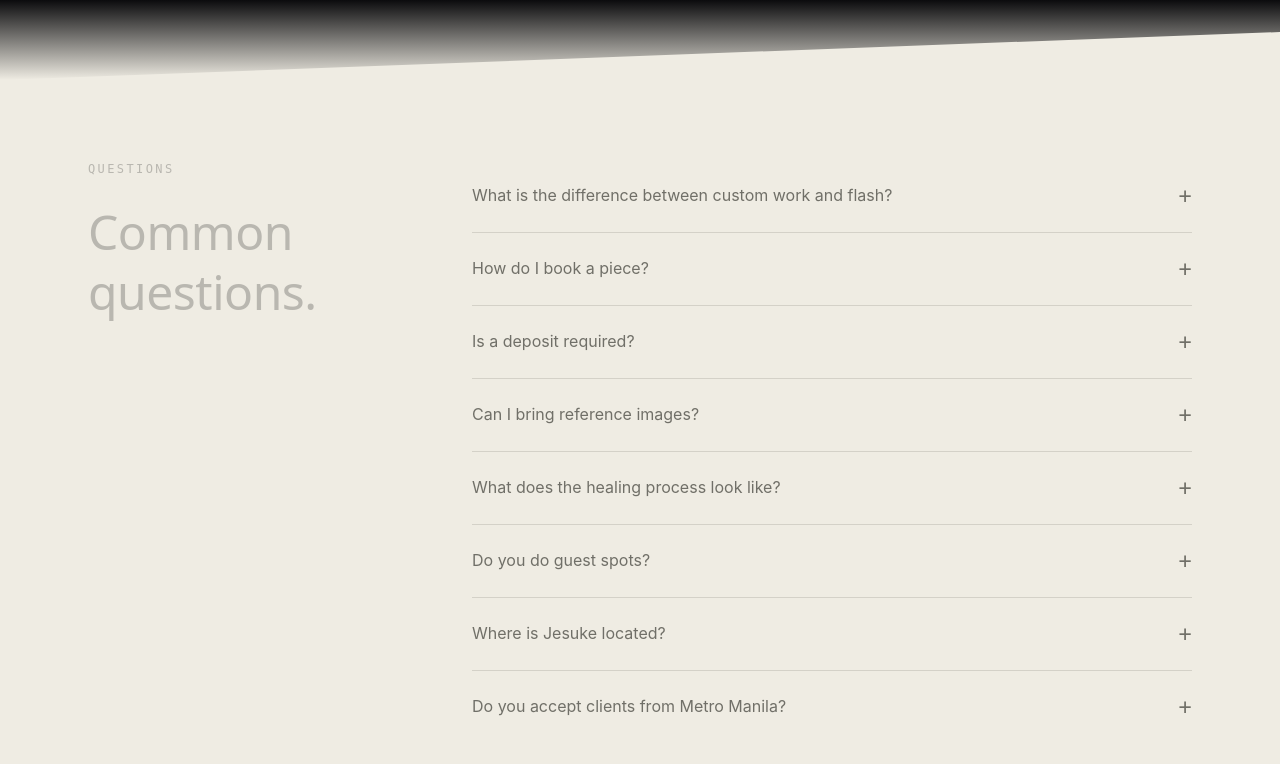
Test case: Faq › collapses FAQ item when clicked again
Click the button "What is the difference between custom work and flash? +".
click(832, 196)  # box [472, 160, 1192, 232]
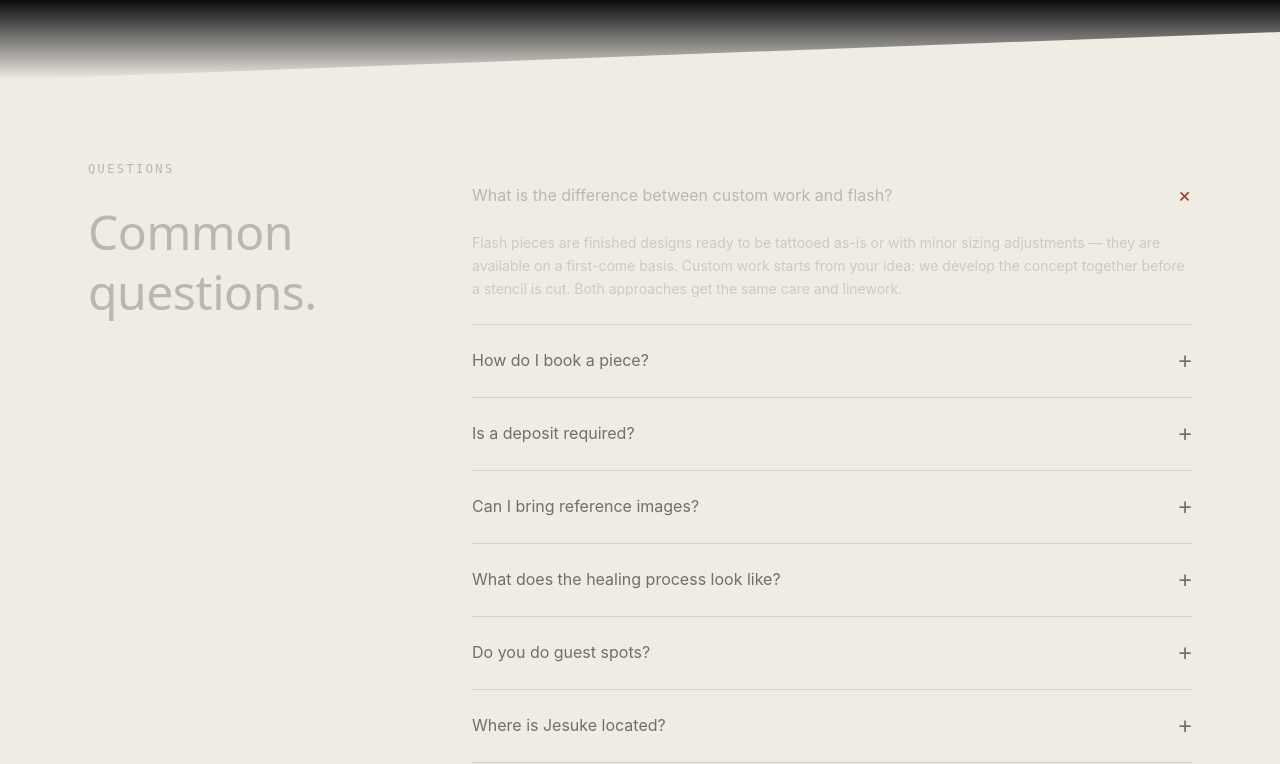
Click the button "What is the difference between custom work and flash? +".
click(832, 196)  # box [472, 160, 1192, 232]
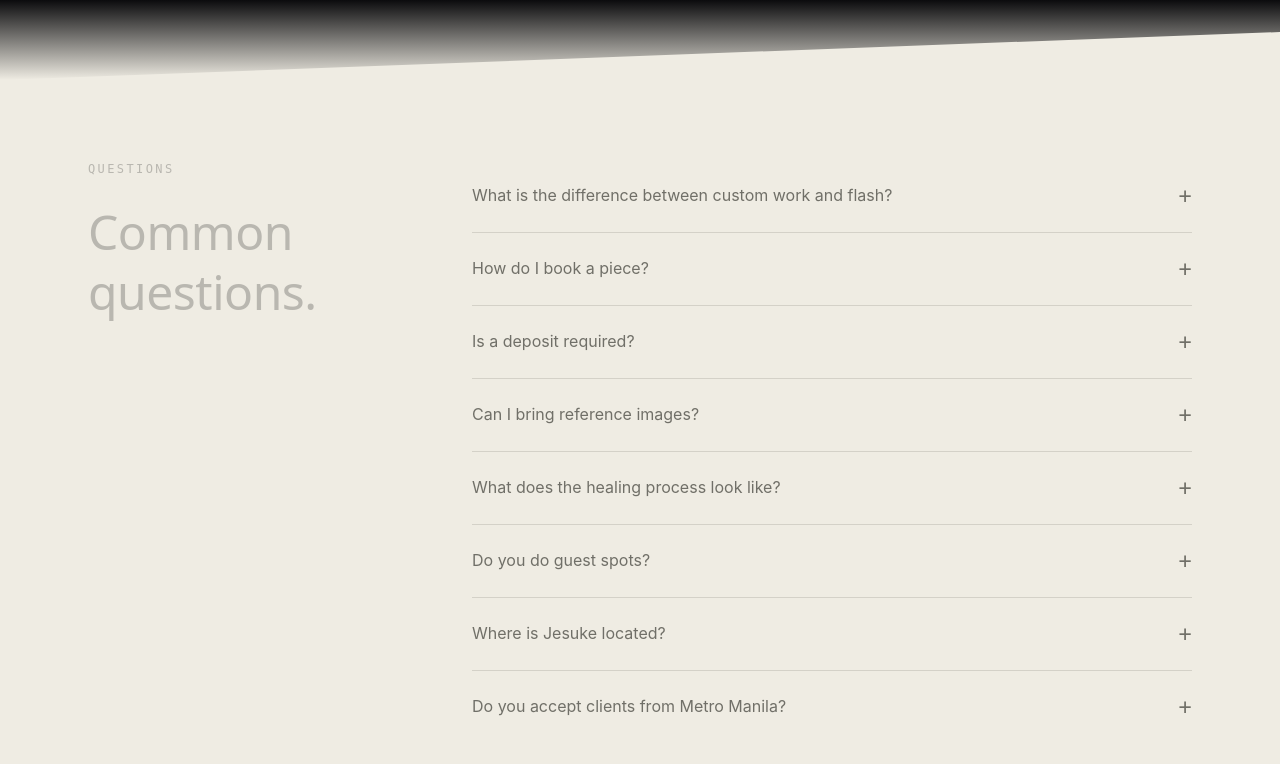
Check: the button "What is the difference between custom work and flash? +" is collapsed, box [472, 160, 1192, 232]
